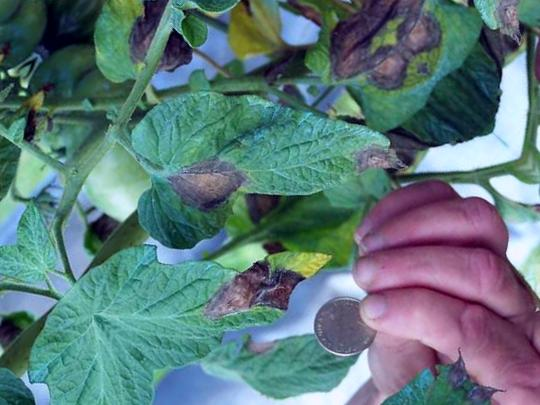Tomato leaf late blight: (75, 0, 421, 339), (69, 138, 347, 405), (108, 0, 300, 64)
